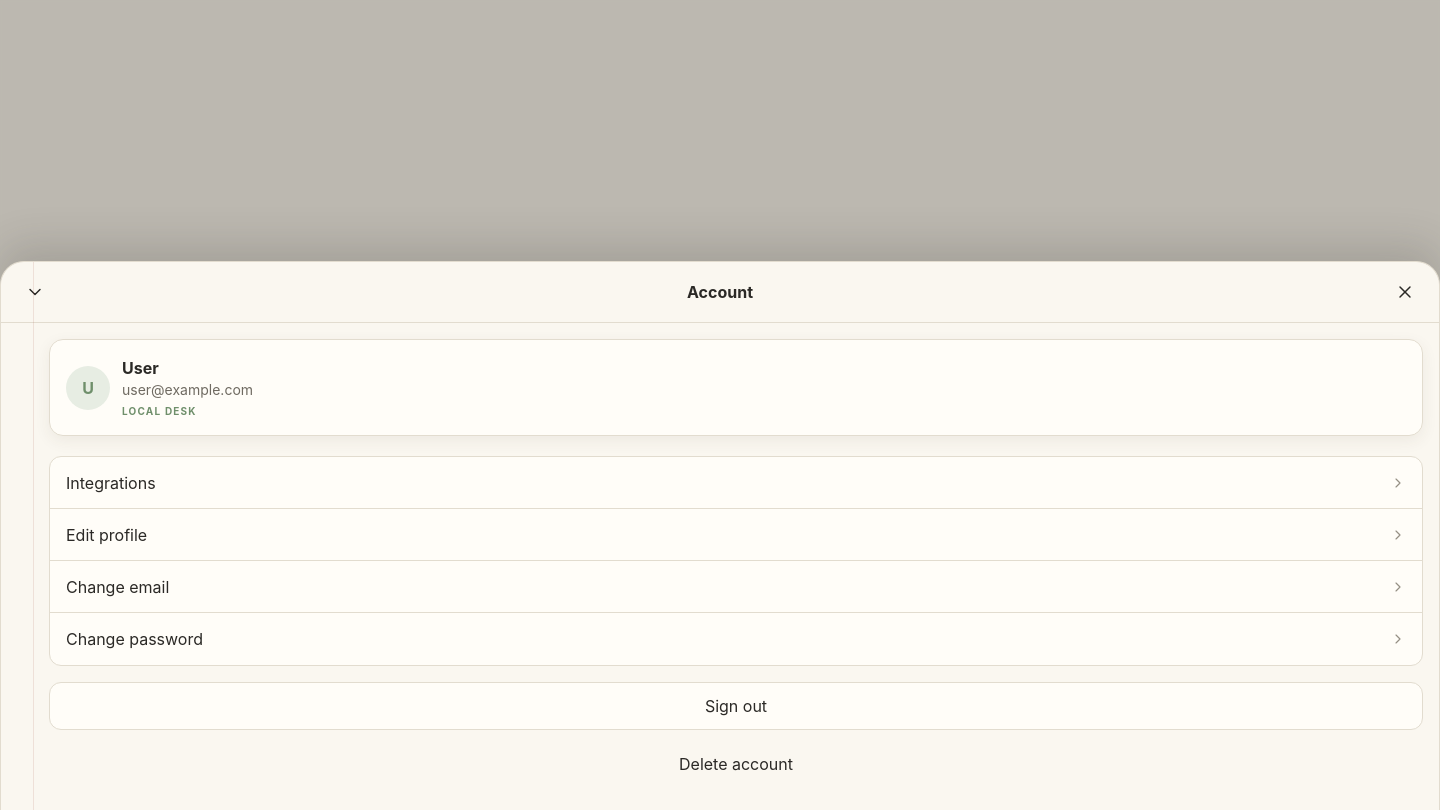
Scenario: AccountSheet › runs a one-click OpenClaw check without displaying its temporary token
Click the button "Integrations". click: x=111, y=482
box: 50,457 -> 1422,509
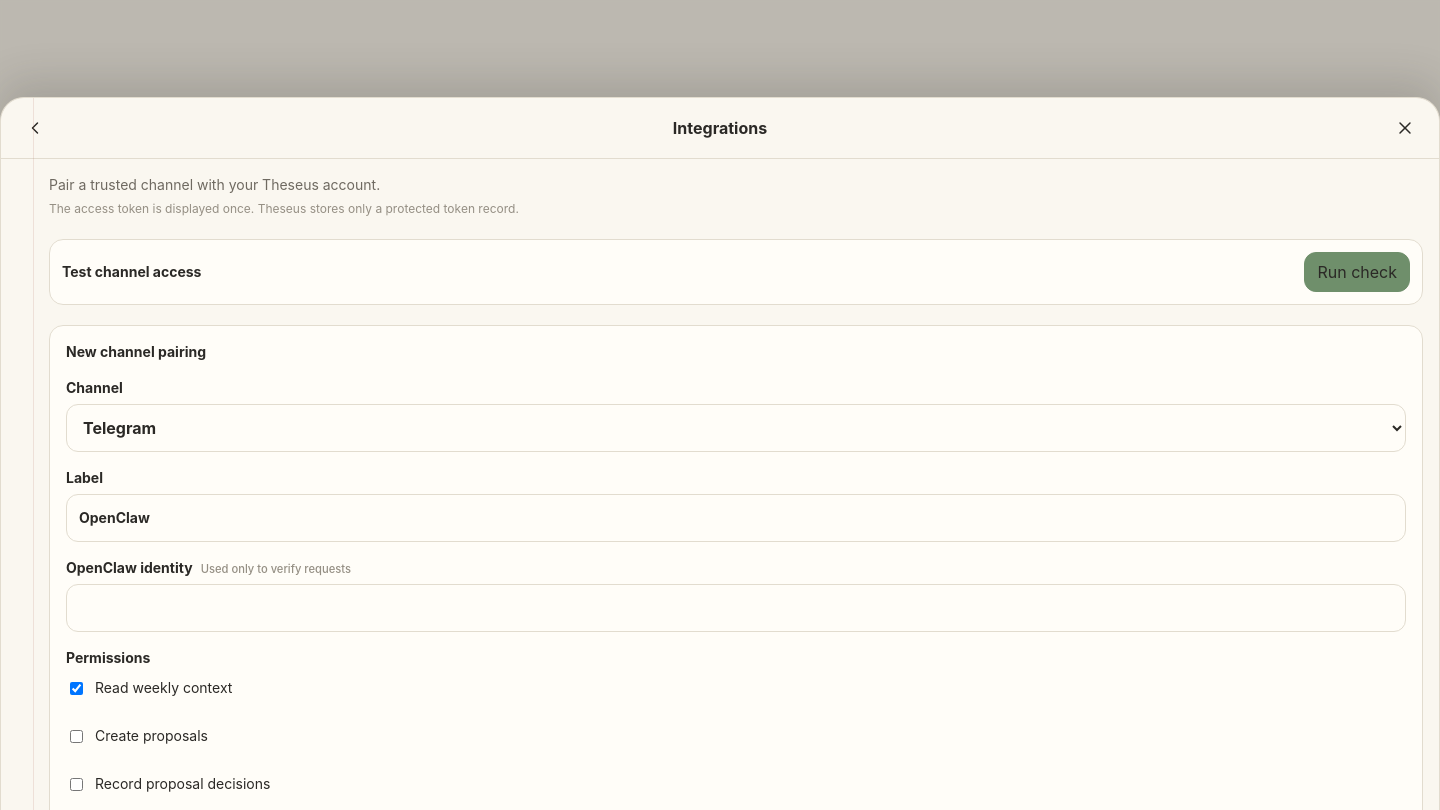
Click the button "Run check". click: x=1357, y=272
box: 1304,252 -> 1410,292
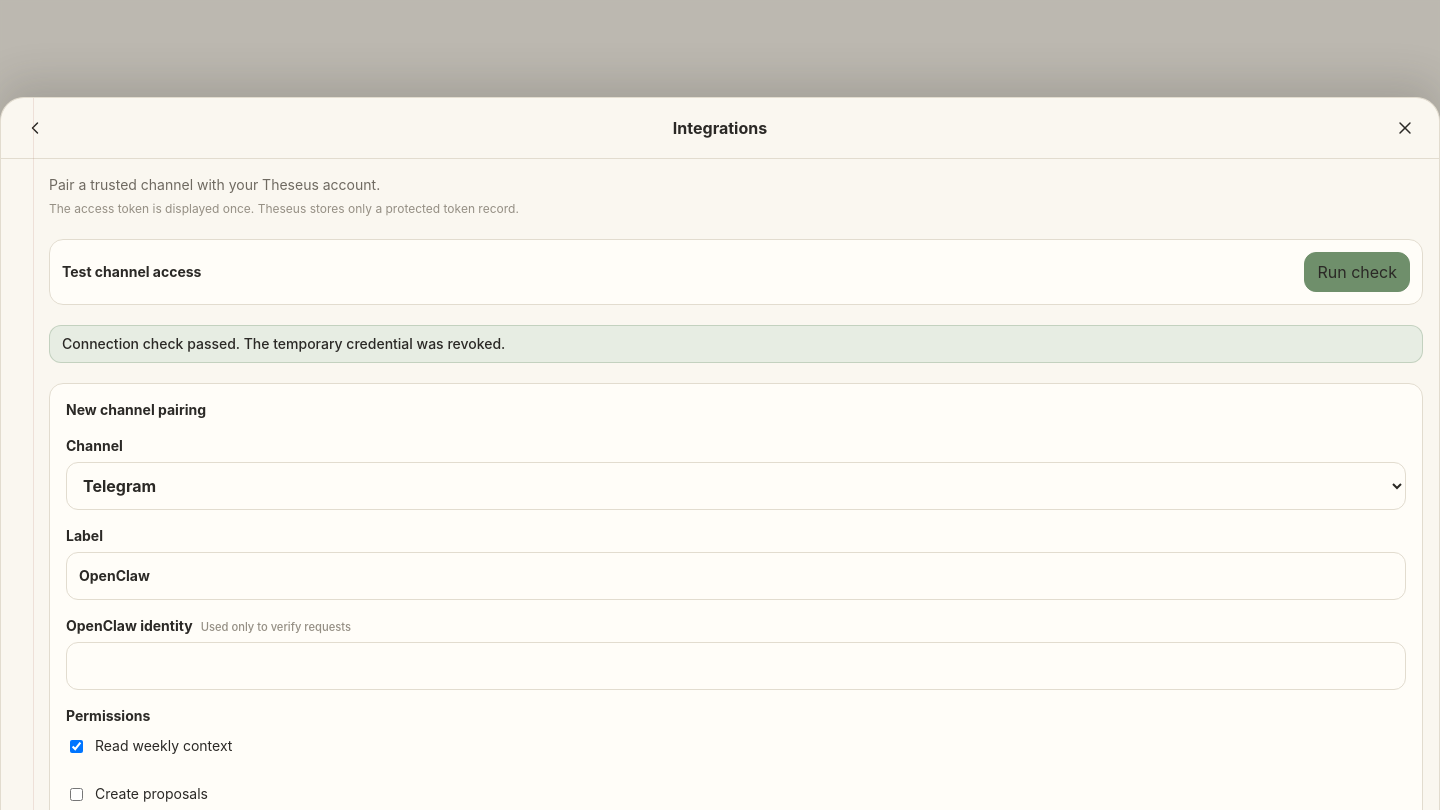
Expected: the text "Connection check passed. The temporary credential was revoked." is shown, 49,325 -> 1423,363
